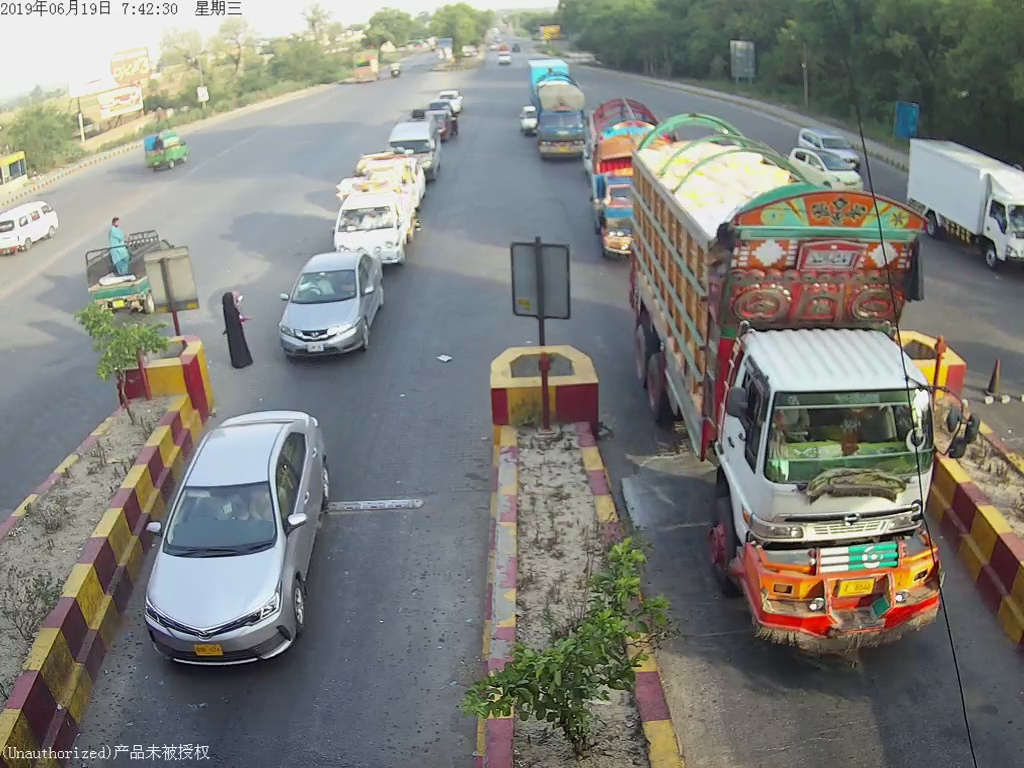Cat-1: (143, 417, 353, 673), (273, 256, 389, 364)
Cat-4: (636, 132, 973, 683)
